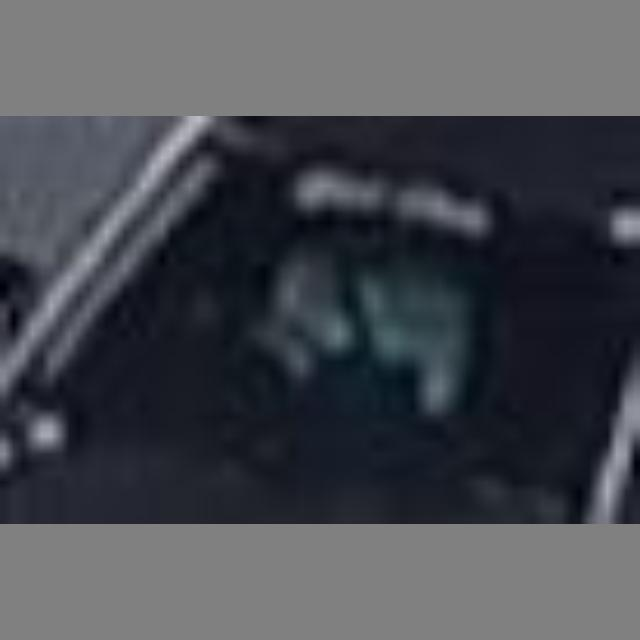pakai: (204, 190, 454, 450)
